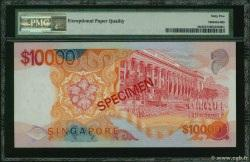10000SingaporeDollar: (15, 43, 236, 146)
